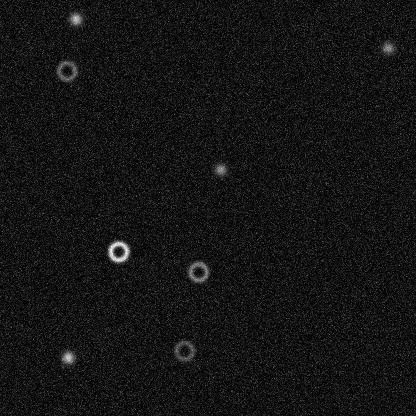Ring: (186, 259, 210, 283), (172, 338, 196, 362), (54, 58, 78, 82), (106, 239, 130, 263)
Spot: (212, 161, 228, 177), (67, 11, 83, 27), (379, 39, 395, 55), (59, 349, 75, 365)
